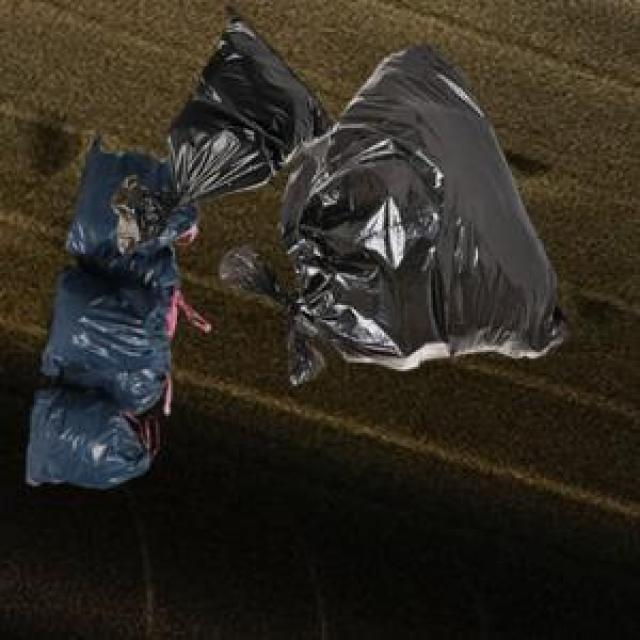waste: (28, 14, 566, 487)
